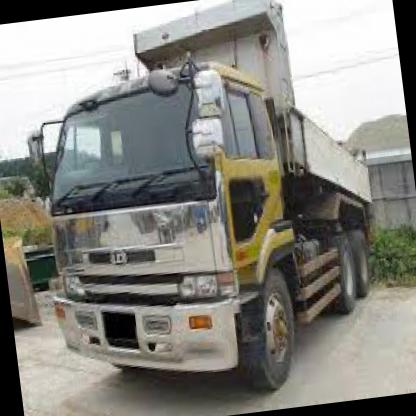truck: (30, 51, 318, 416)
